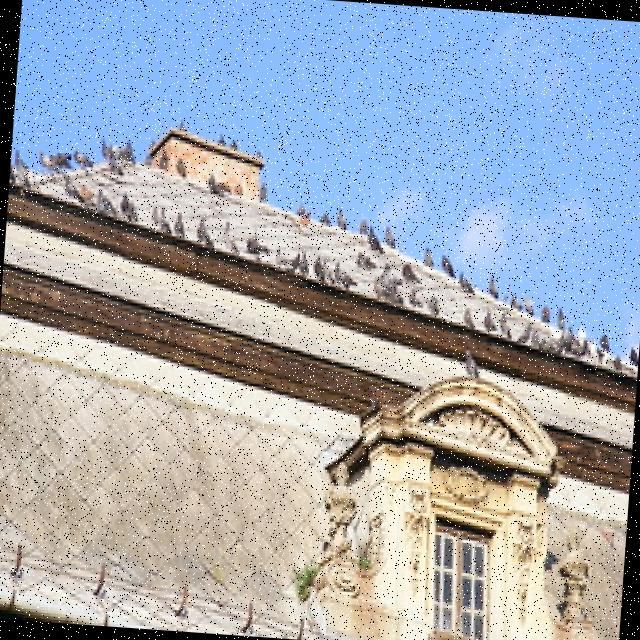bird: (118, 192, 140, 224), (366, 225, 385, 255), (400, 261, 422, 286), (482, 306, 500, 333), (457, 270, 476, 294), (439, 253, 456, 278), (462, 306, 476, 332), (383, 224, 398, 248), (486, 274, 499, 300), (422, 244, 436, 268)
